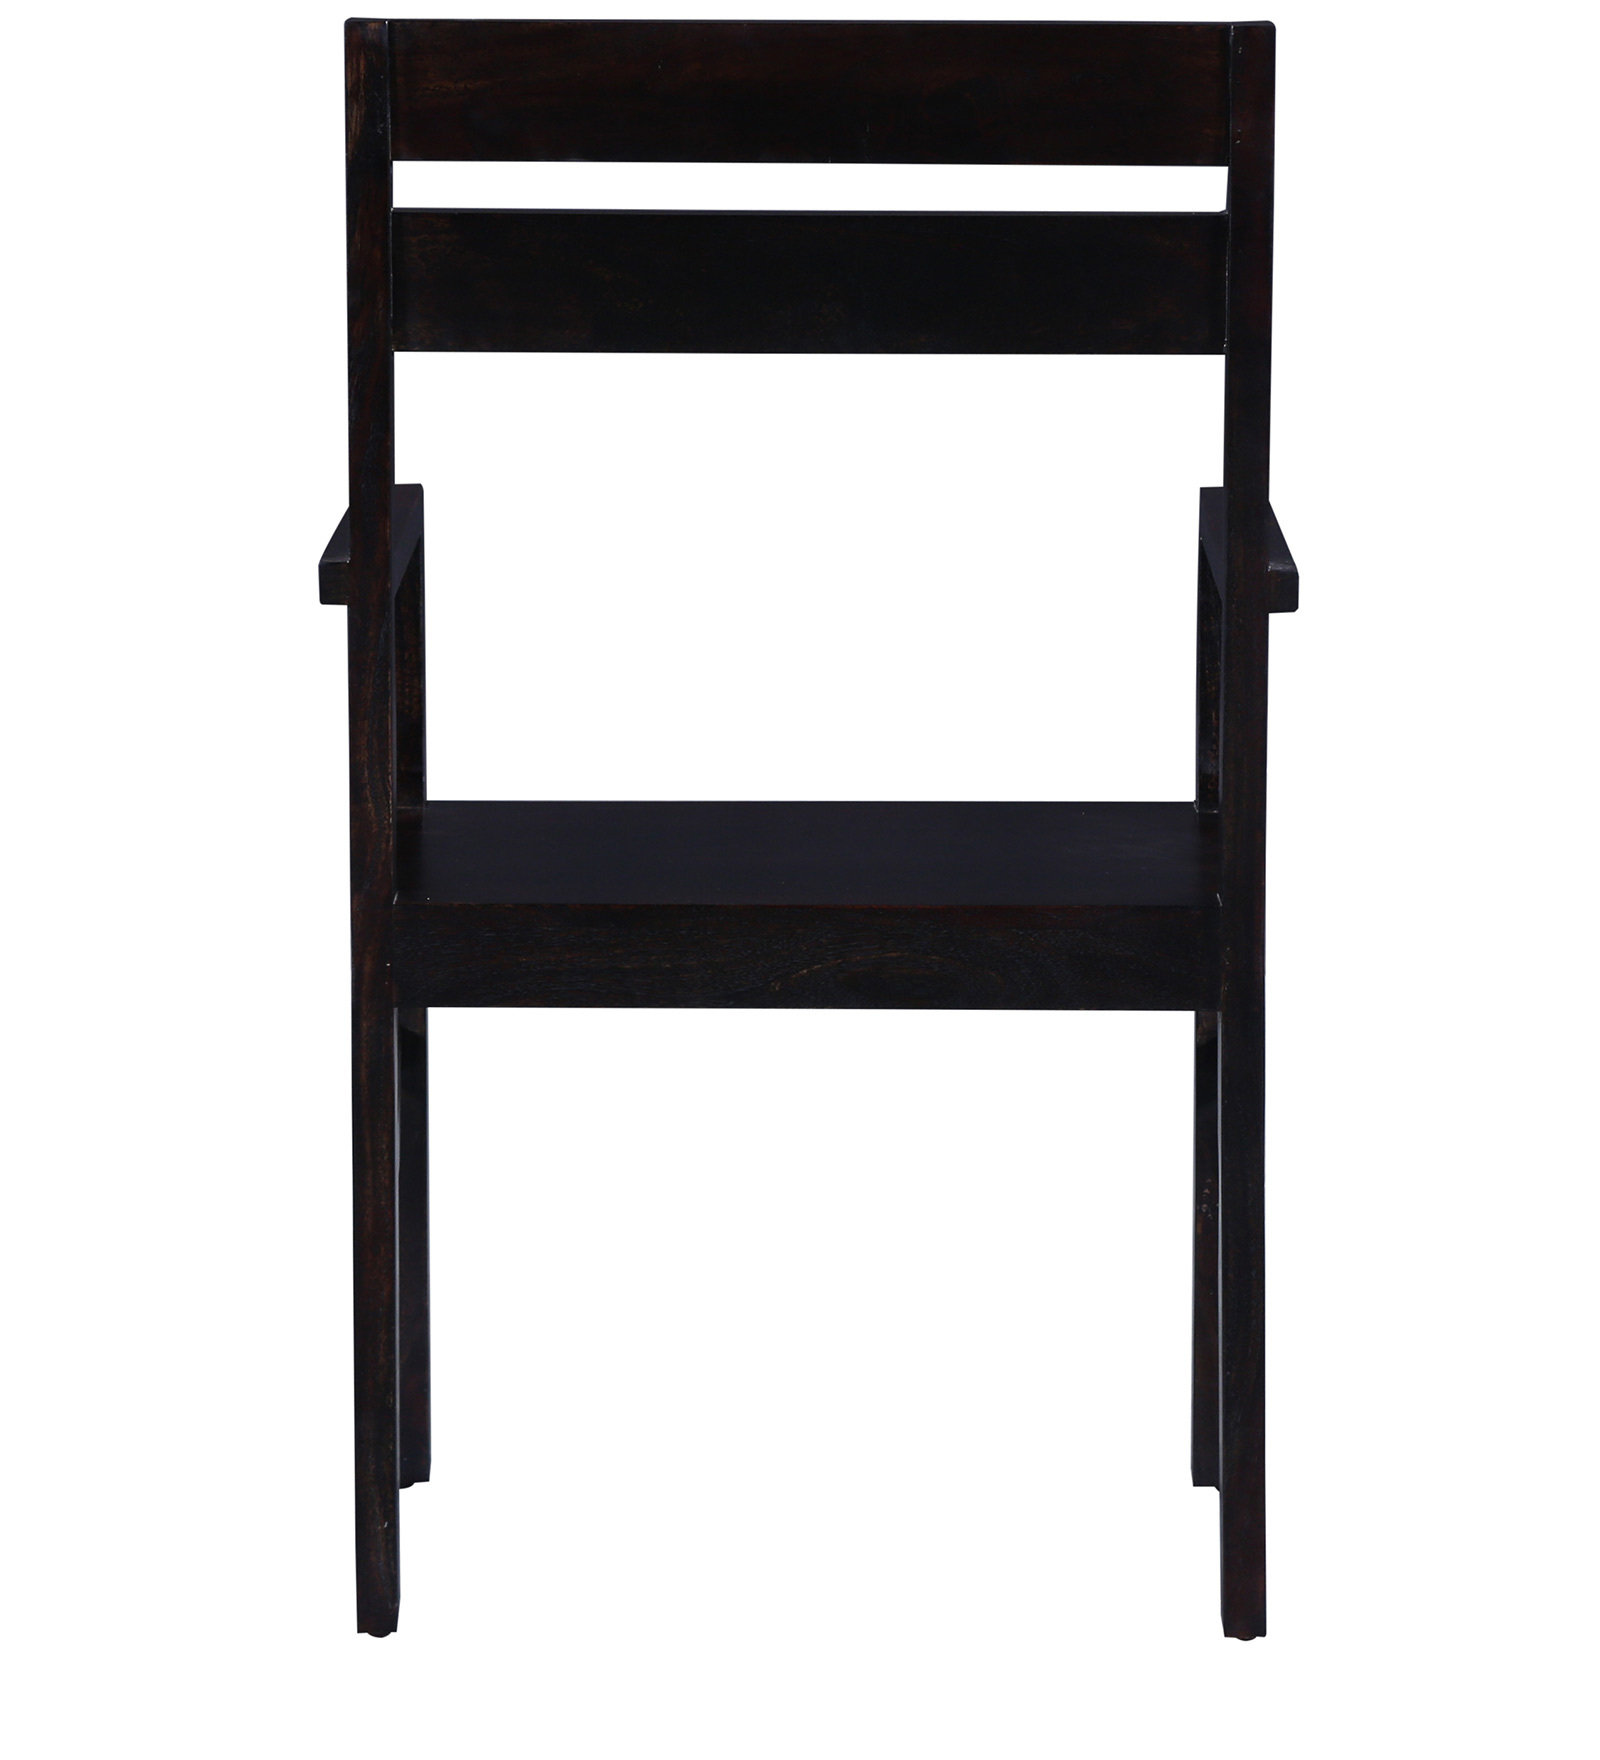Enkel Arm Chair in Warm Chestnut Finish by Woodsworth: (320, 12, 1312, 1728)
